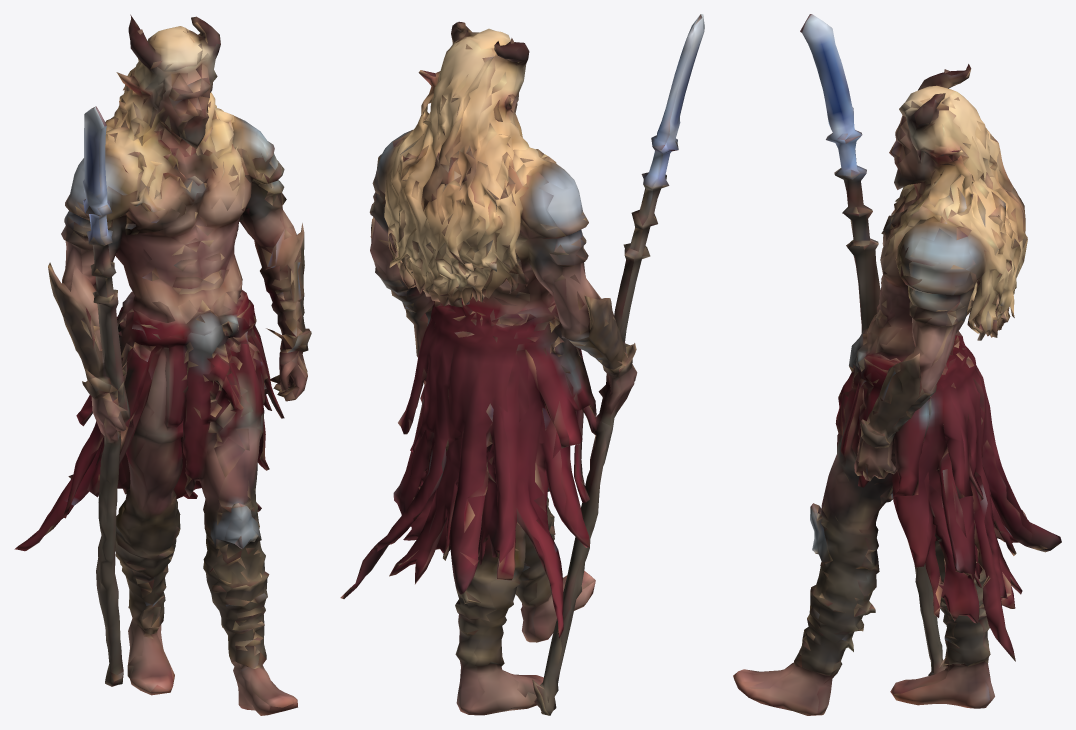
File: Cohan_final.glb
3 renders of one model, left to right at view 1: azimuth 30°, elevation 25°; view 2: azimuth 150°, elevation 25°; view 3: azimuth 270°, elevation 25°, orthographic. The views are drawn at different scales.
Visible parts, largest first — view 1: Mesh1.0; view 2: Mesh1.0; view 3: Mesh1.0.
Boxes of the visible parts, left/top/right/bottom form: Mesh1.0: left=14, top=14, right=311, bottom=715; Mesh1.0: left=340, top=14, right=704, bottom=715; Mesh1.0: left=733, top=14, right=1061, bottom=715.
Bounding box in the file's own units: 0.8564 × 2 × 0.9357.
1 material, 1 textured.
